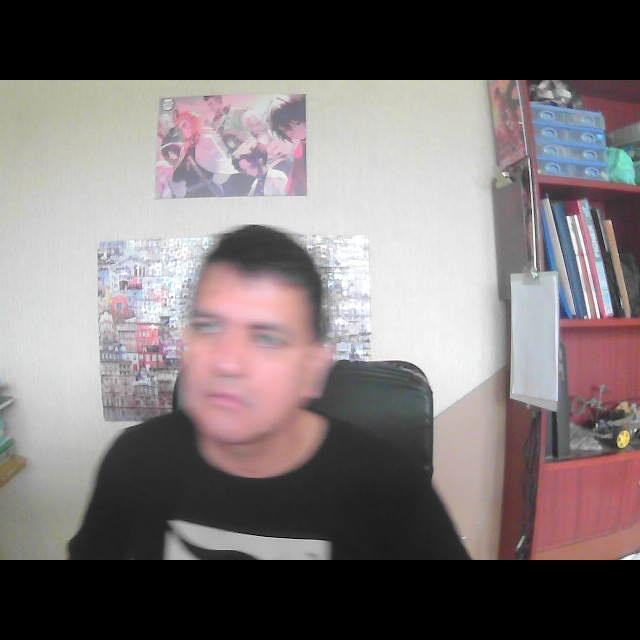cesar: (154, 213, 353, 479)
